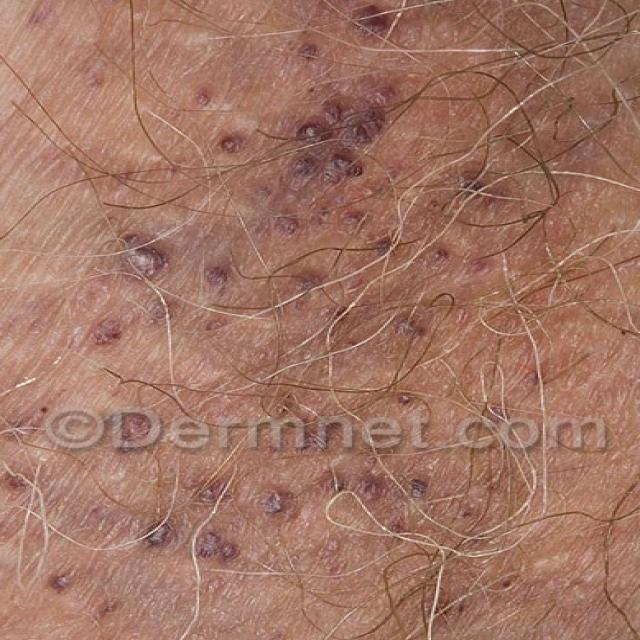Vascular Tumors: (67, 5, 525, 301), (0, 415, 522, 628)
